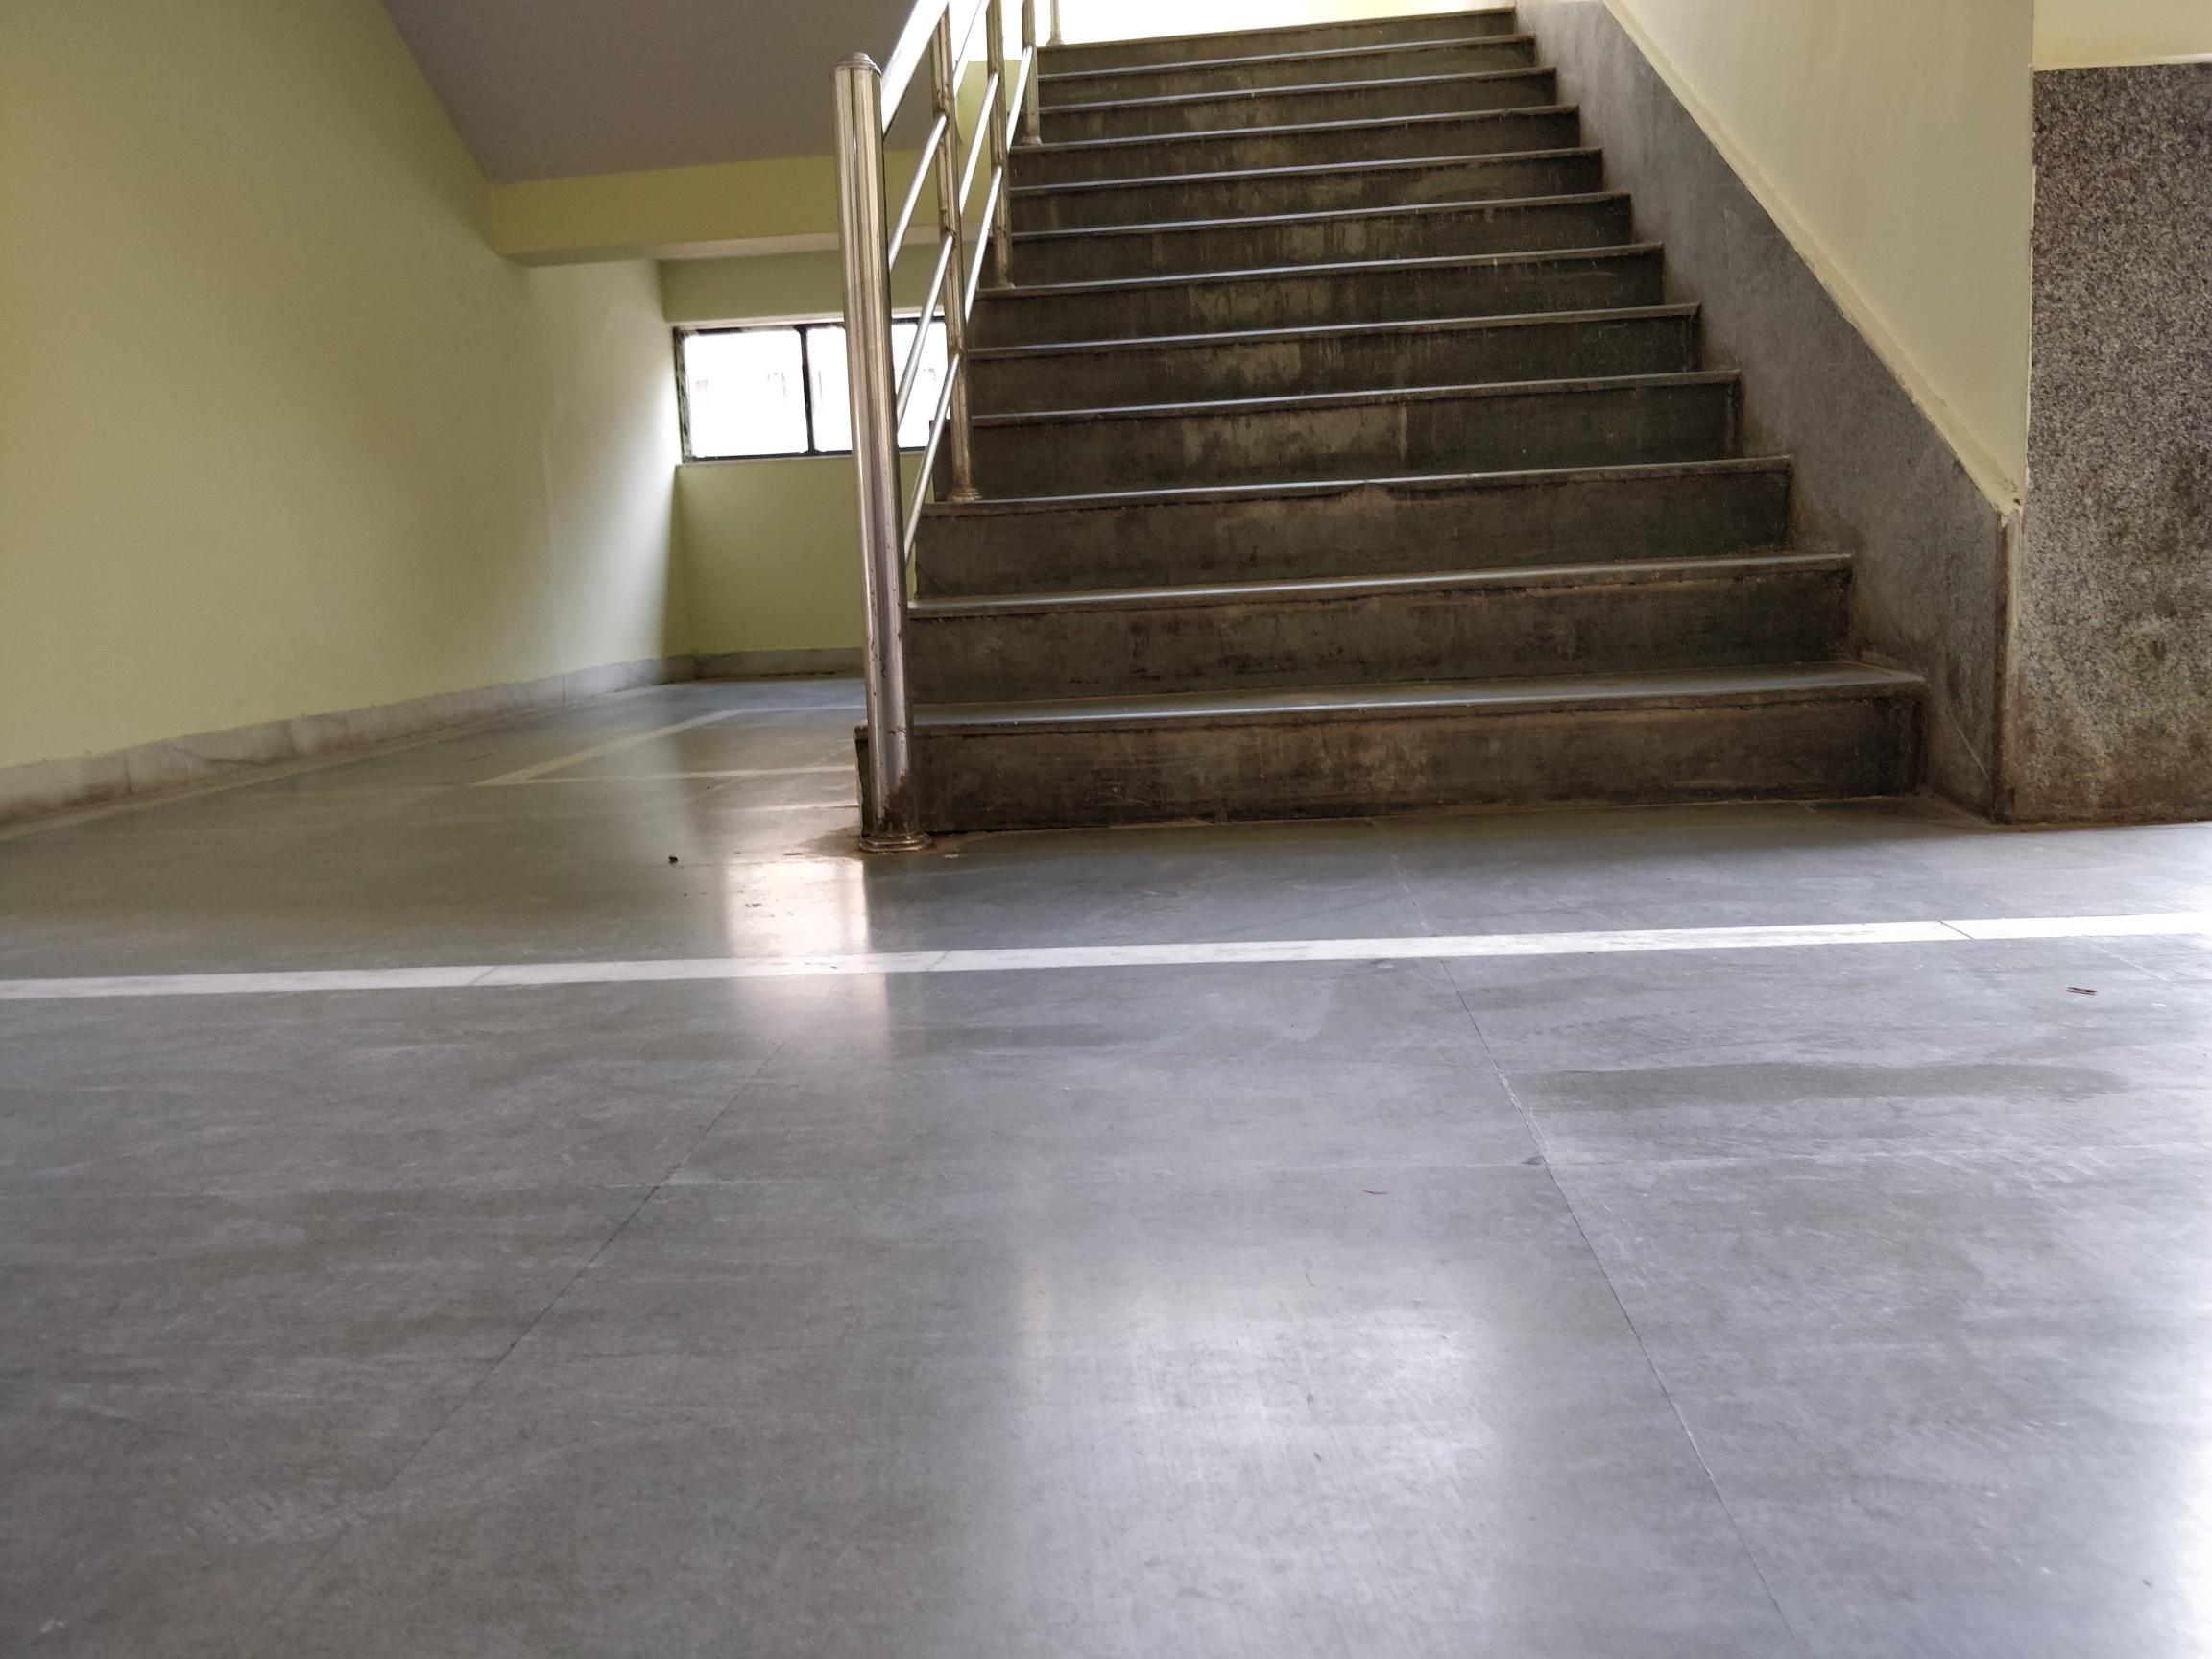stairs_up: (961, 33, 1914, 802)
